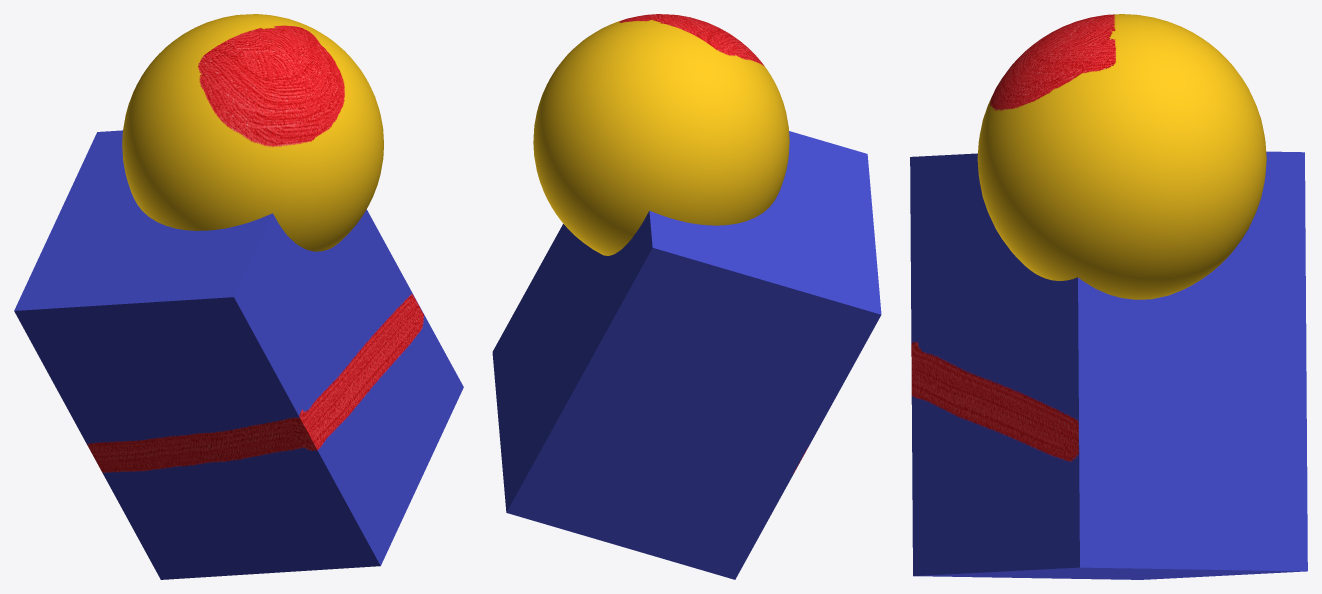
3 views of the same model, side by side, from view 1: azimuth 30°, elevation 25°; view 2: azimuth 150°, elevation 25°; view 3: azimuth 270°, elevation 25° (orthographic). The views are drawn at different scales.
Parts seen in each view (by area): view 1: mesh_id29, mesh_id31; view 2: mesh_id29, mesh_id31; view 3: mesh_id29, mesh_id31.
Part boxes in pixels (x1=…): mesh_id29: x1=14, y1=130, x2=463, y2=579; mesh_id31: x1=122, y1=14, x2=383, y2=251; mesh_id29: x1=492, y1=131, x2=881, y2=579; mesh_id31: x1=533, y1=14, x2=789, y2=255; mesh_id29: x1=910, y1=151, x2=1307, y2=579; mesh_id31: x1=977, y1=14, x2=1266, y2=299.
Bounding box in the file's own units: 0.4912 × 0.5977 × 0.3606.
Materials: 2 (2 with a texture image).
